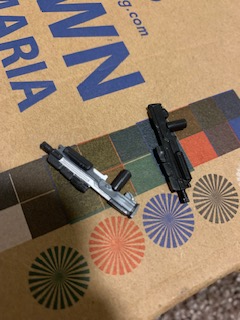rifle: (34, 139, 143, 222), (142, 101, 198, 208)
